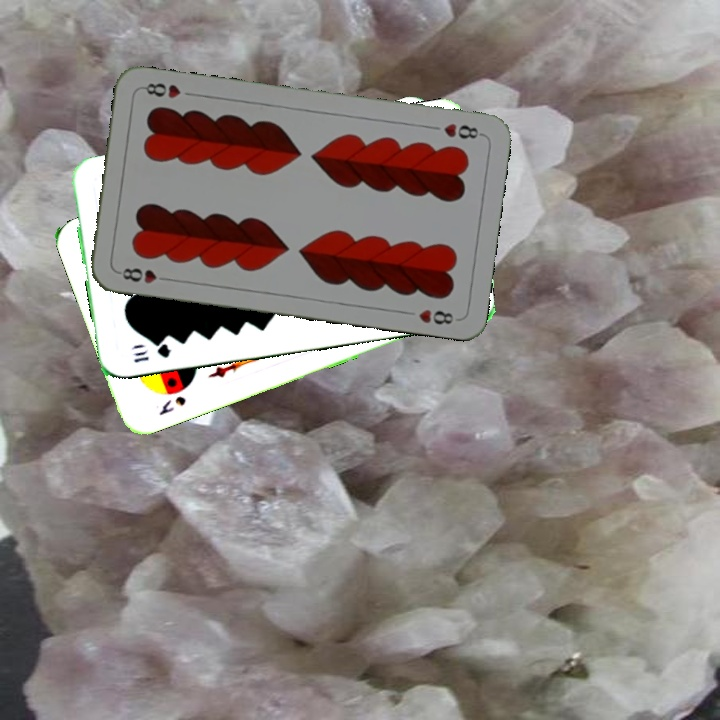G10: (129, 340, 173, 365)
H8: (114, 264, 173, 286), (439, 119, 485, 142)
SK: (155, 392, 189, 418)
